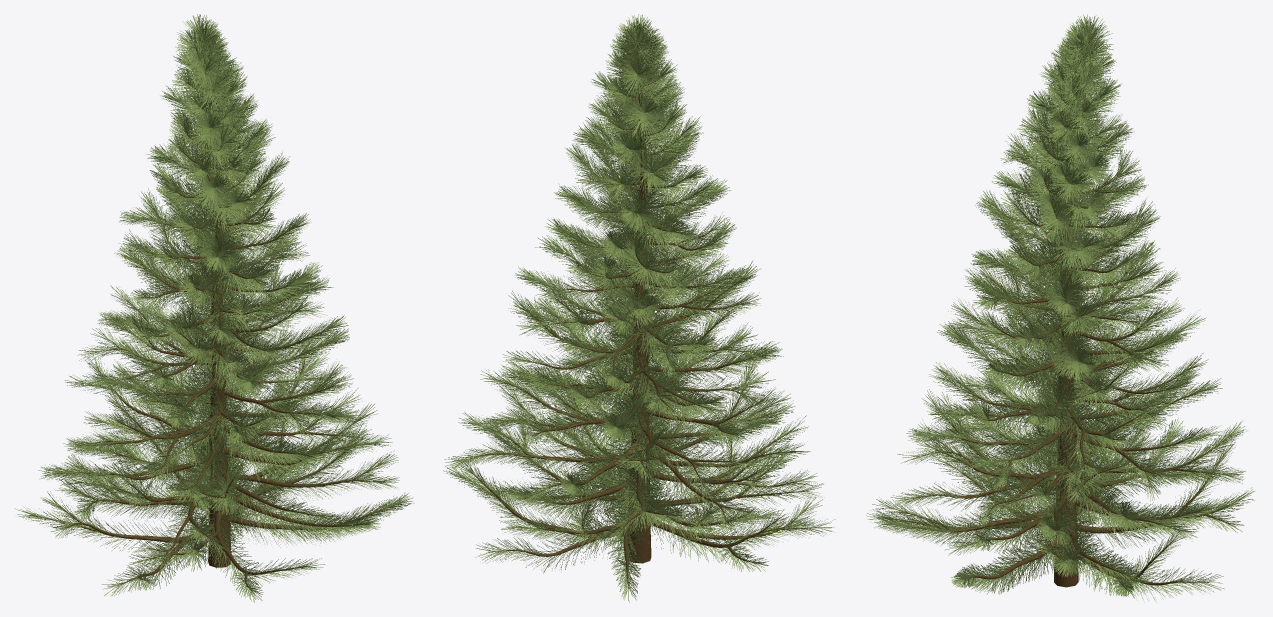
File: pine1.fbx
The picture shows the model from 3 angles, left to right: view 1: azimuth 30°, elevation 25°; view 2: azimuth 150°, elevation 25°; view 3: azimuth 270°, elevation 25°; orthographic projection. The views are drawn at different scales.
Parts seen in each view (by area): view 1: leaves, tree; view 2: leaves, tree; view 3: leaves, tree.
Boxes of the visible parts, left/top/right/bottom form: leaves: left=14, top=14, right=414, bottom=602; tree: left=32, top=39, right=386, bottom=590; leaves: left=443, top=14, right=835, bottom=602; tree: left=464, top=42, right=818, bottom=587; leaves: left=866, top=14, right=1254, bottom=602; tree: left=881, top=56, right=1230, bottom=587.
Size of the model in its own units: 317 by 491 by 311.
